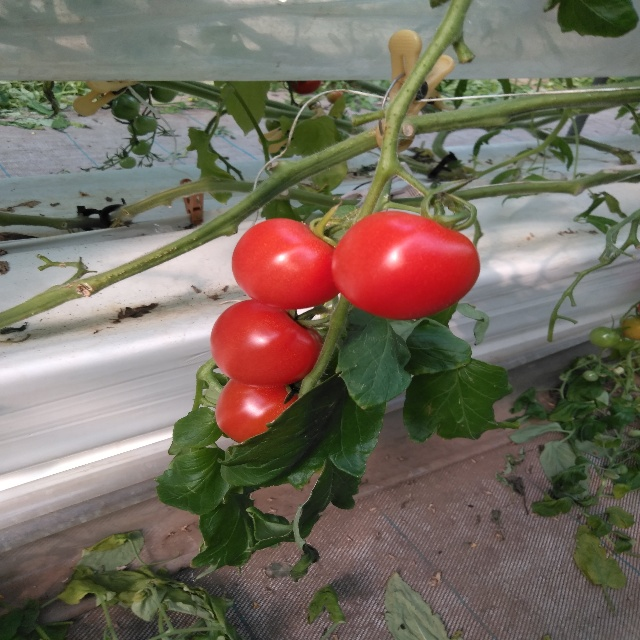l_fully_ripened: (331, 210, 481, 321), (210, 299, 325, 388), (231, 218, 341, 309), (215, 379, 298, 443)
